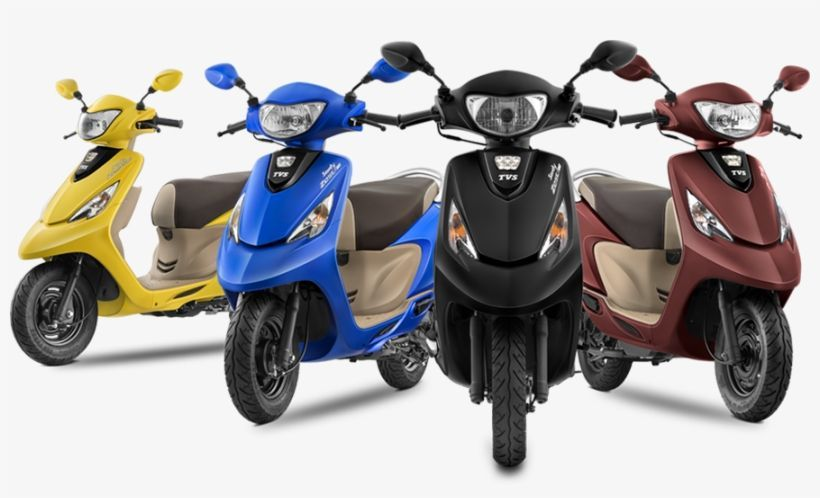bike: (419, 37, 618, 461), (204, 51, 425, 426), (614, 55, 807, 430), (7, 65, 198, 374)
